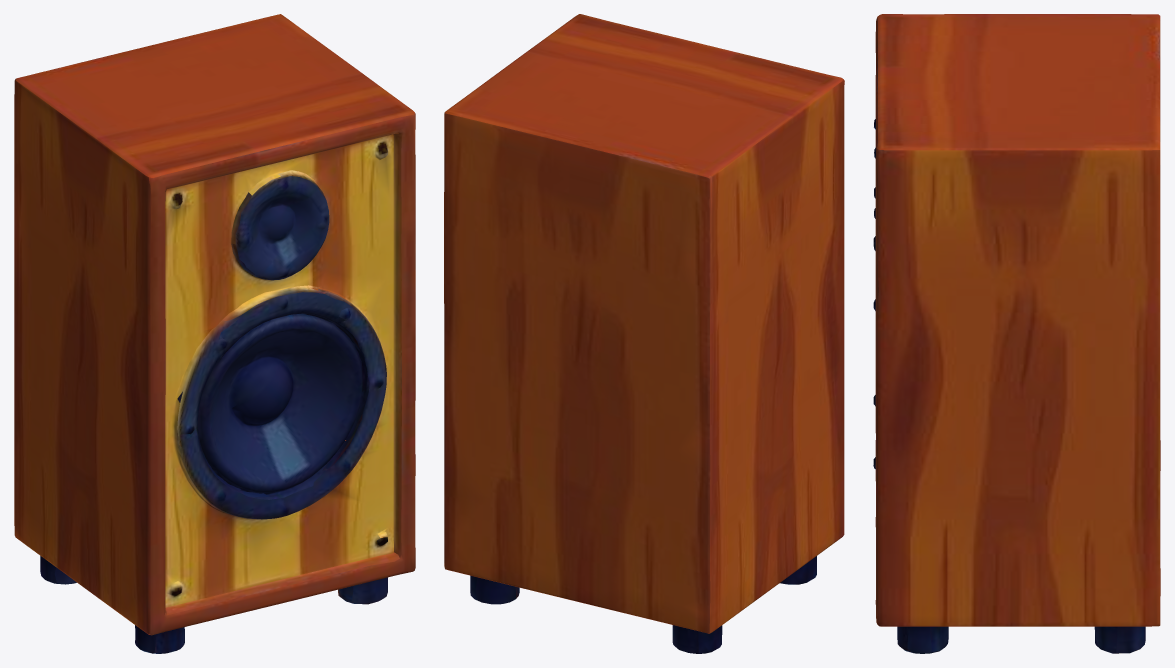
The model's file is speaker.glb.
3 views of the same model, side by side, from view 1: azimuth 30°, elevation 25°; view 2: azimuth 150°, elevation 25°; view 3: azimuth 270°, elevation 25° (orthographic). The views are drawn at different scales.
Parts seen in each view (by area): view 1: speaker2; view 2: speaker2; view 3: speaker2.
Part boxes in pixels (x1=…): speaker2: x1=14, y1=14, x2=415, y2=653; speaker2: x1=444, y1=14, x2=844, y2=653; speaker2: x1=873, y1=14, x2=1160, y2=653.
Size of the model in its own units: 0.5707 by 1 by 0.5082.
1 material, 1 textured.
